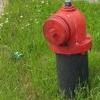a fire hydrant: (45, 5, 92, 57)
